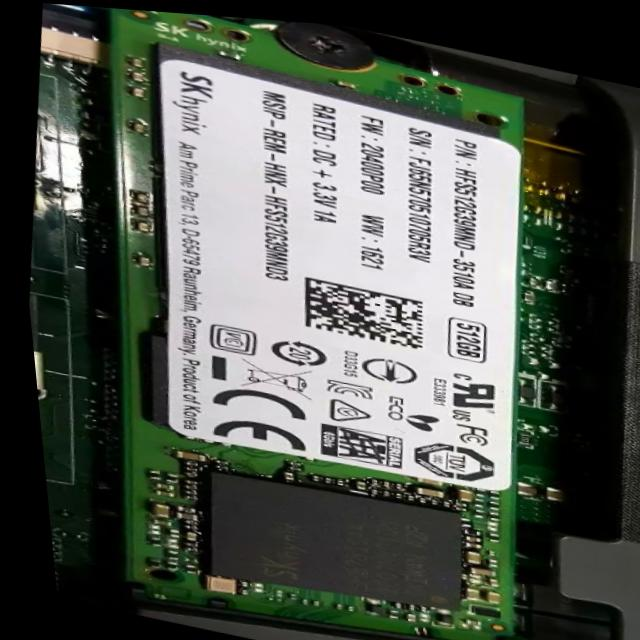datamatrix: (292, 273, 423, 347)
